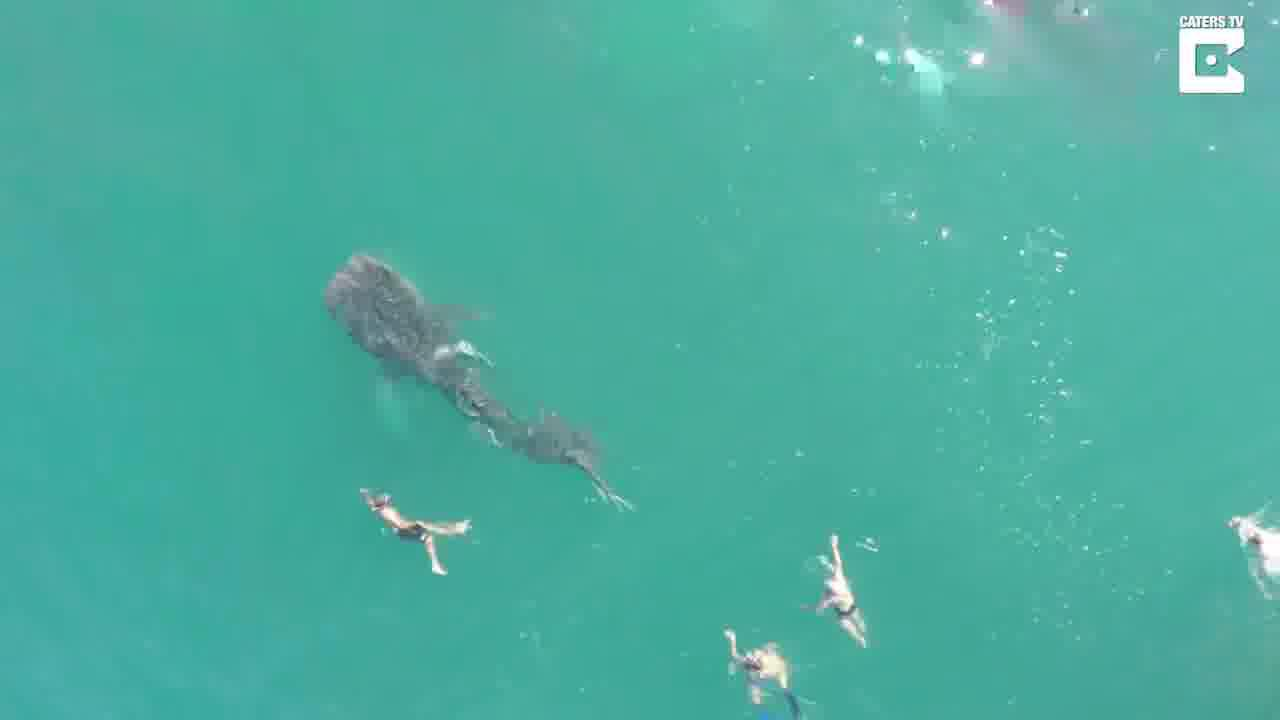human: (362, 474, 478, 578), (726, 621, 813, 717), (797, 525, 863, 651)
